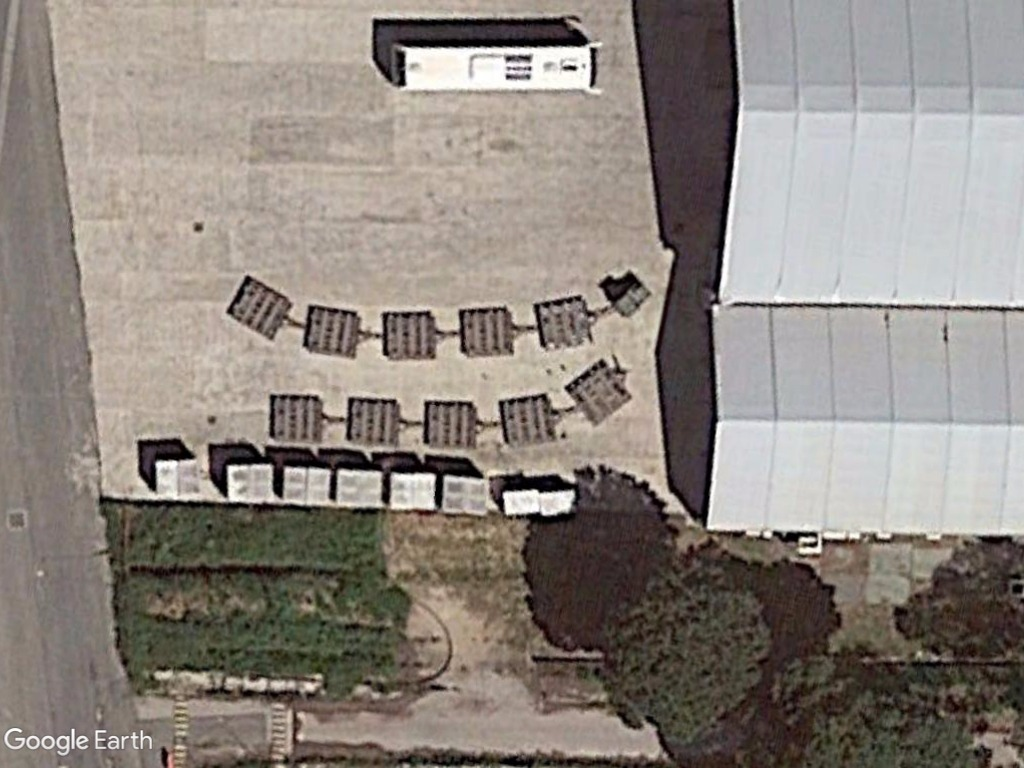bus: (372, 16, 607, 101)
